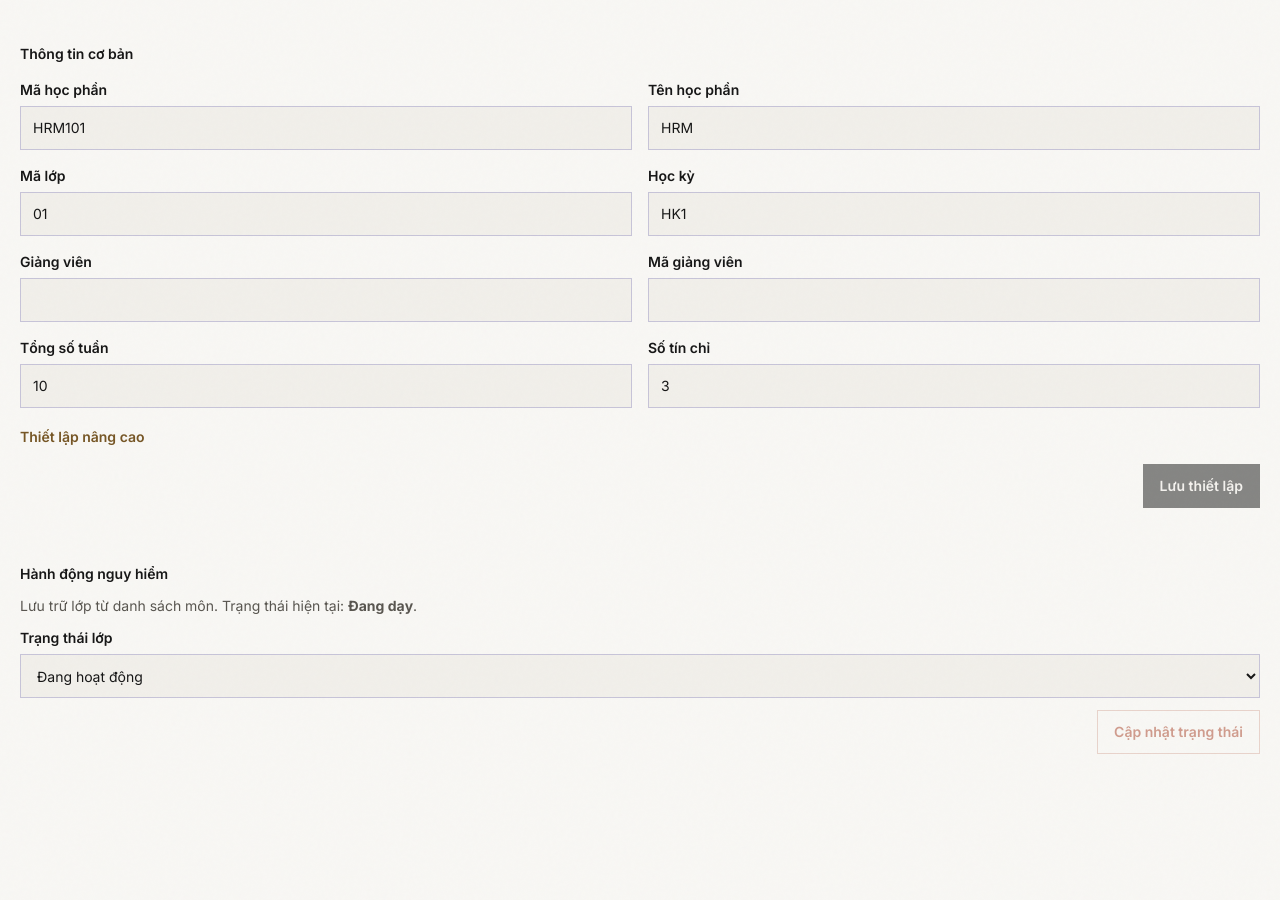
Test: SettingsForm › warns on closing and restores the form URL when browser history changes with unsaved edits
Replace the text in the field labelled "Mã lớp" with "02": (326, 214) x1=20 y1=192 x2=632 y2=236
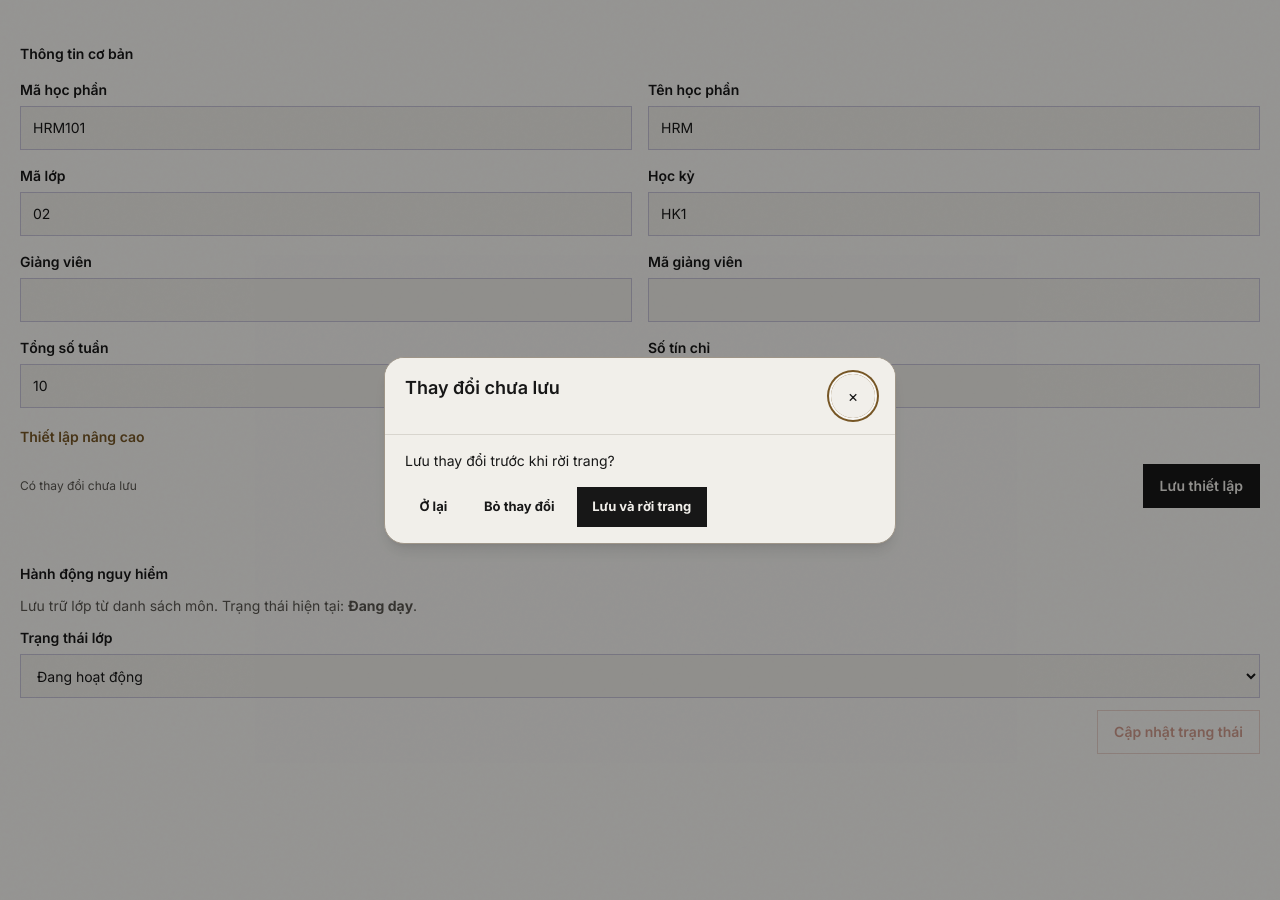
Check: the dialog "Thay đổi chưa lưu" is shown, box x1=384 y1=356 x2=896 y2=544
